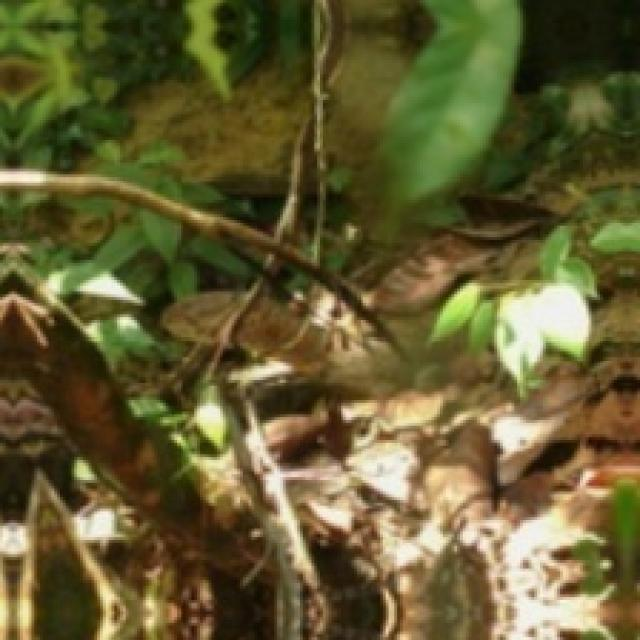king cobra: (364, 214, 546, 314), (235, 298, 321, 361), (162, 291, 238, 342)
